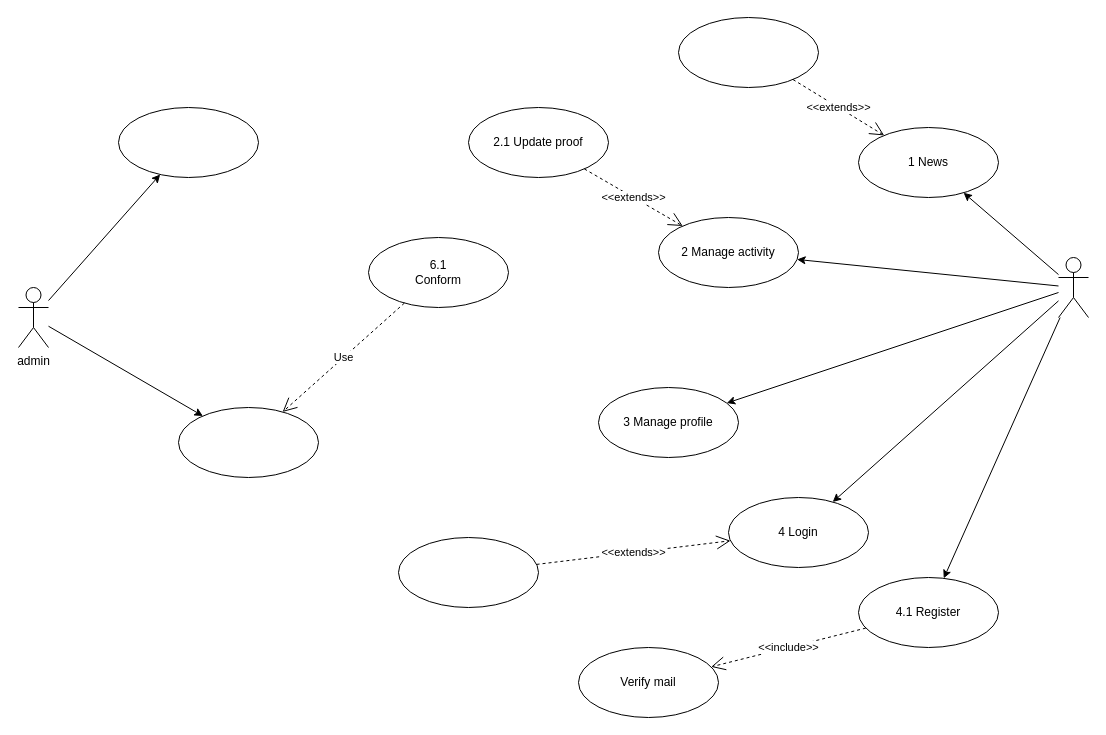
Some shapes in this 1106 by 735 pixel diagram are drawn without their labels. Each missing label, with the centre of its shape:
"1.1 Register activity" belongs at [748,52].
"5 Manage news" belongs at [188,142].
"6 Manage user" belongs at [248,442].
"Reset Password" belongs at [468,572].
"user" belongs at [1073,287].
